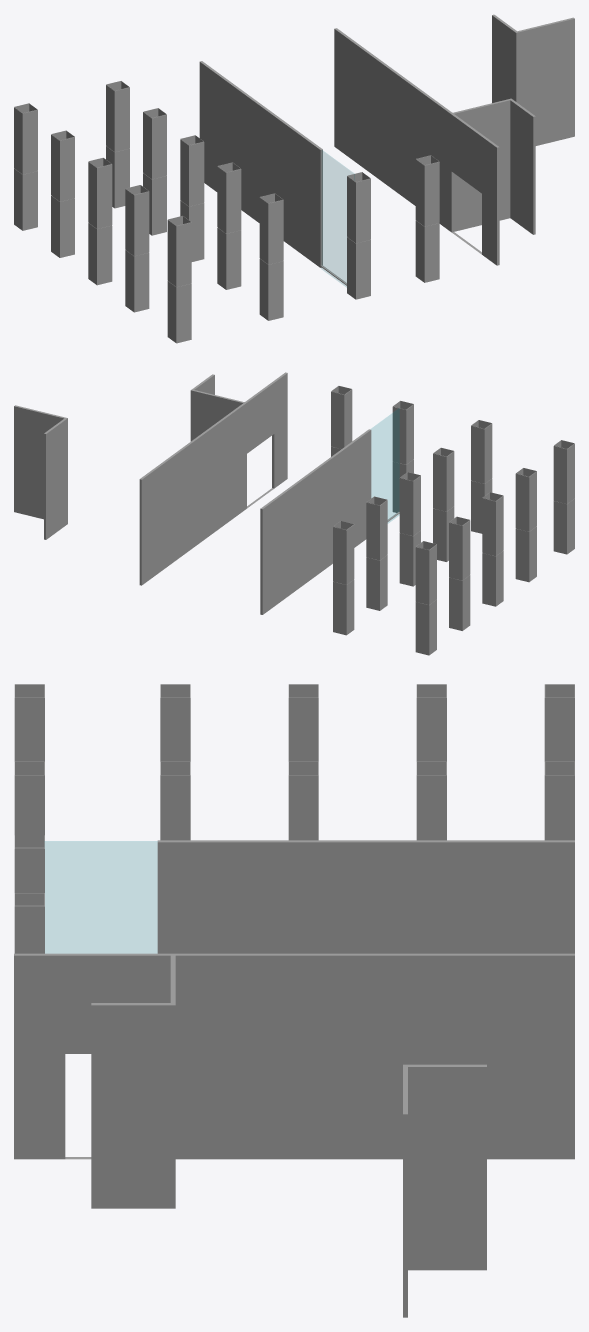
Rendered from Tutorial_WallsAndPillars.fbx.
The picture shows the model from 3 angles, top to bottom: view 1: azimuth 30°, elevation 25°; view 2: azimuth 150°, elevation 25°; view 3: azimuth 270°, elevation 25°; orthographic projection. The views are drawn at different scales.
Parts seen in each view (by area): view 1: pCube1, pCube2, group29_pCube63, group29_pCube62, Pillar20, Pillar17, Pillar15, Pillar16, Pillar18, Pillar19, Pillar13, Pillar11 (+5 smaller); view 2: pCube1, pCube2, group29_pCube63, Pillar15, Pillar10, Pillar12, Pillar11, Pillar13, Pillar17, Pillar19, pCube45, Pillar14 (+5 smaller); view 3: pCube1, pCube2, group29_pCube62, group29_pCube63, pCube45, Pillar16, Pillar10, Pillar12, Pillar14, Pillar11, Pillar13, Pillar15 (+5 smaller).
Part boxes in pixels (left/top/right/bottom): pCube1: left=334, top=28, right=499, bottom=265; pCube2: left=199, top=61, right=322, bottom=267; group29_pCube63: left=492, top=14, right=574, bottom=145; group29_pCube62: left=453, top=98, right=535, bottom=234; Pillar20: left=415, top=155, right=439, bottom=282; Pillar17: left=125, top=185, right=149, bottom=312; Pillar15: left=88, top=157, right=112, bottom=285; Pillar16: left=217, top=162, right=241, bottom=289; Pillar18: left=259, top=193, right=283, bottom=320; Pillar19: left=167, top=216, right=191, bottom=343; Pillar13: left=51, top=130, right=74, bottom=257; Pillar11: left=14, top=103, right=37, bottom=230; pCube1: left=139, top=372, right=287, bottom=585; pCube2: left=260, top=429, right=371, bottom=614; group29_pCube63: left=14, top=405, right=67, bottom=539; Pillar15: left=482, top=492, right=503, bottom=606; Pillar10: left=333, top=521, right=354, bottom=635; Pillar12: left=366, top=496, right=387, bottom=610; Pillar11: left=415, top=541, right=436, bottom=655; Pillar13: left=449, top=516, right=470, bottom=630; Pillar17: left=515, top=468, right=536, bottom=582; Pillar19: left=553, top=440, right=574, bottom=554; pCube45: left=371, top=409, right=398, bottom=522; Pillar14: left=399, top=472, right=420, bottom=586; pCube1: left=14, top=953, right=574, bottom=1159; pCube2: left=157, top=840, right=574, bottom=953; group29_pCube62: left=91, top=955, right=175, bottom=1208; group29_pCube63: left=403, top=1064, right=486, bottom=1317; pCube45: left=45, top=841, right=157, bottom=952; Pillar16: left=160, top=761, right=190, bottom=840; Pillar10: left=544, top=761, right=574, bottom=840; Pillar12: left=416, top=761, right=446, bottom=840; Pillar14: left=288, top=761, right=318, bottom=840; Pillar11: left=544, top=684, right=574, bottom=761; Pillar13: left=416, top=684, right=446, bottom=761; Pillar15: left=288, top=684, right=318, bottom=761.
Size of the model in its own units: 7269 by 1620 by 4007.
